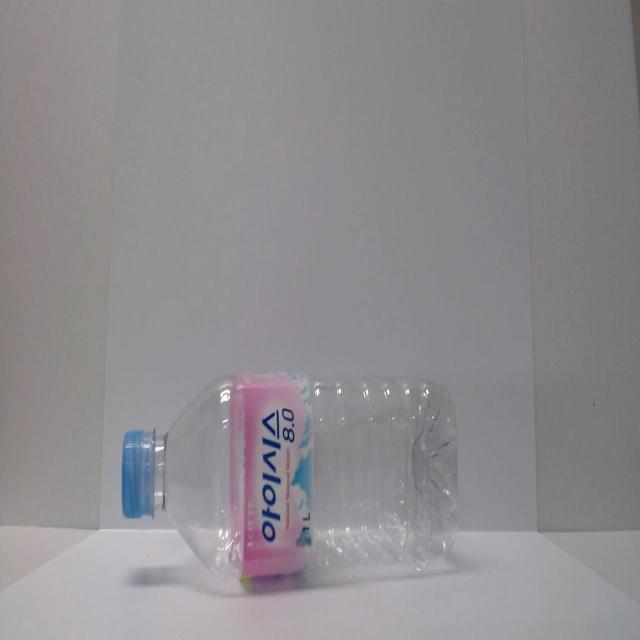bottle: (112, 379, 470, 577)
